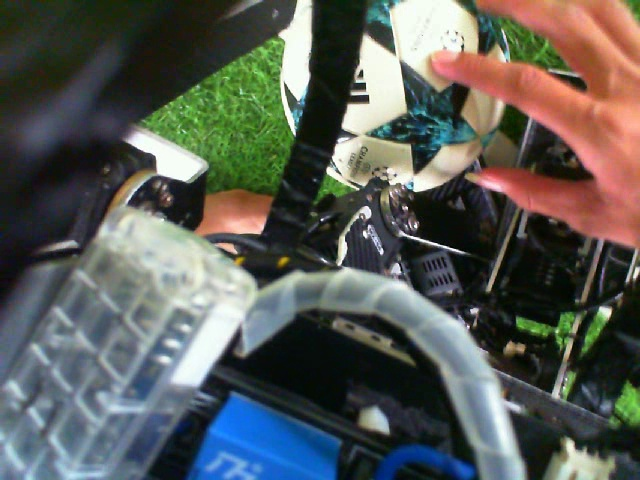ball: (323, 1, 513, 193)
